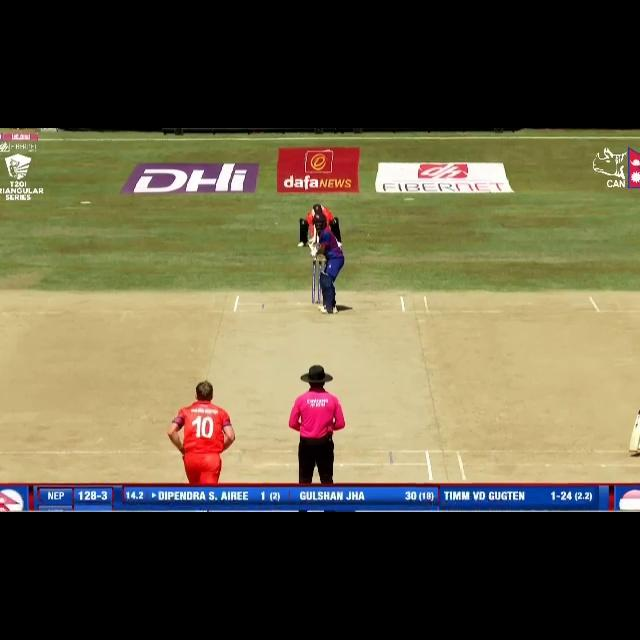umpire: (276, 353, 355, 512)
